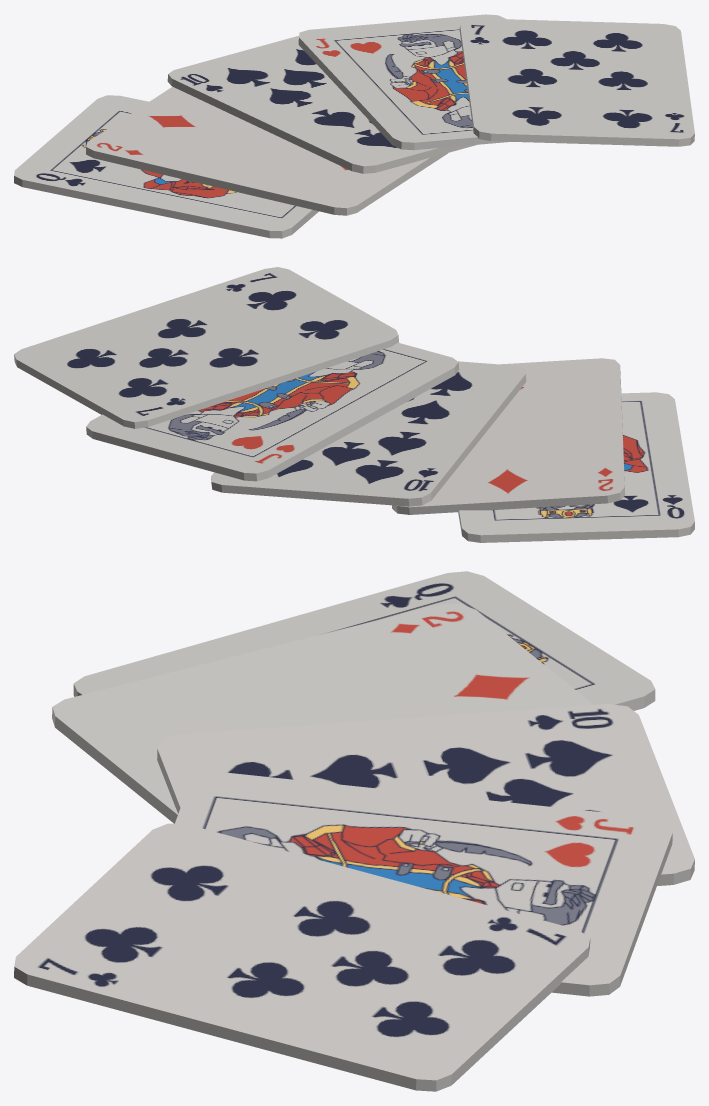
The model's file is SM_Item_Playing_Card_Hand_03.fbx.
3 renders of one model, top to bottom at view 1: azimuth 30°, elevation 25°; view 2: azimuth 150°, elevation 25°; view 3: azimuth 270°, elevation 25°, orthographic. The views are drawn at different scales.
Visible parts, largest first — view 1: SM_Item_Playing_Card_Hand_03; view 2: SM_Item_Playing_Card_Hand_03; view 3: SM_Item_Playing_Card_Hand_03.
Part boxes in pixels (x1,y1,x2,y2): SM_Item_Playing_Card_Hand_03: [14, 14, 694, 238]; SM_Item_Playing_Card_Hand_03: [14, 267, 694, 542]; SM_Item_Playing_Card_Hand_03: [14, 571, 694, 1091].
Size of the model in its own units: 39.63 by 1.87 by 22.56.
